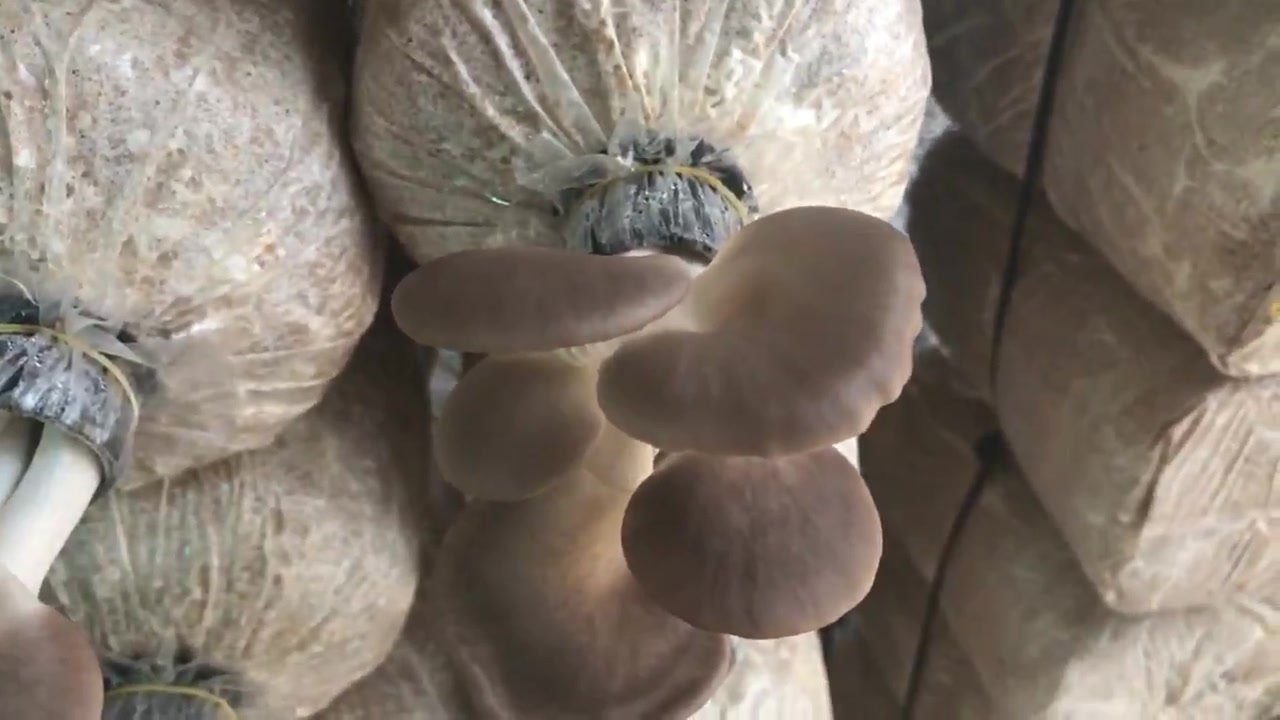nam: (392, 165, 924, 718), (1, 322, 132, 720)
